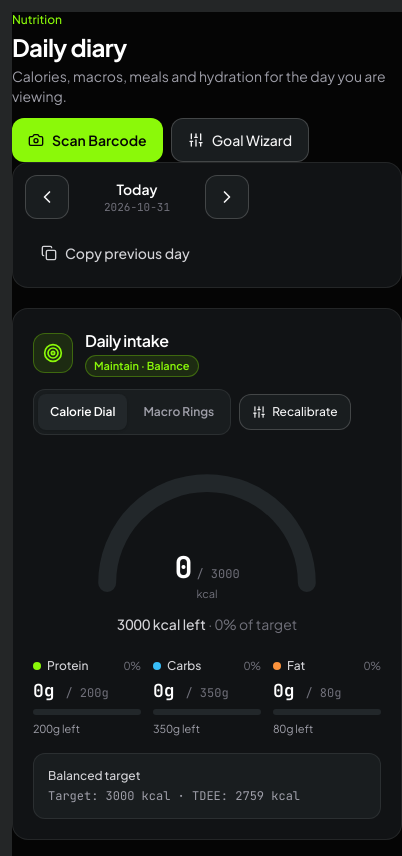
NutritionView: targets shown for the viewed day › navigating back to today restores live targets and removes the caption
Click the button titled "Previous Day": (47, 197) [25, 175, 69, 219]
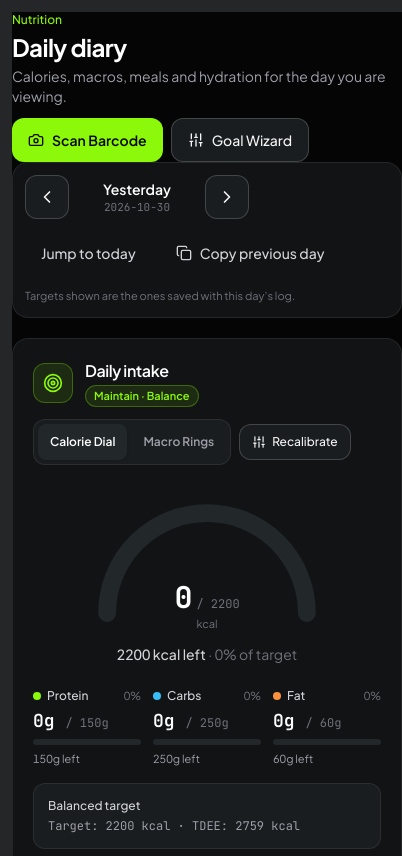
Now the text "Targets shown are the ones saved with this day’s log." is shown, box [25, 289, 295, 302]
Click the button titled "Next Day": (227, 197) [205, 175, 249, 219]
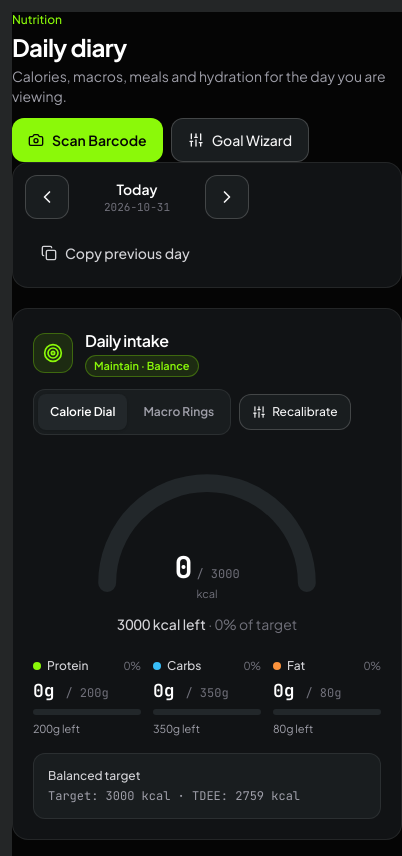
Now the text "/ 3000" is shown, box [196, 566, 240, 582]
Now the text with test id "target-source-caption" is gone
